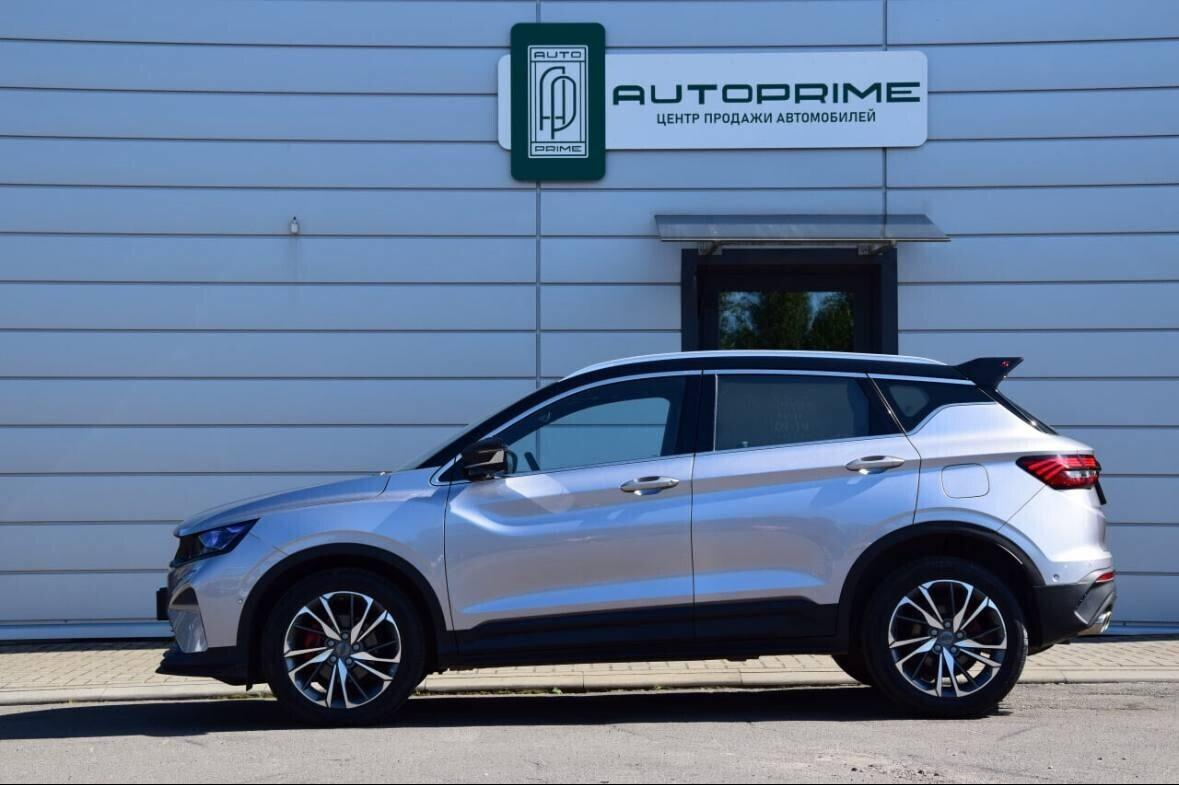Coolray_2019-2023: (146, 345, 1129, 724)
